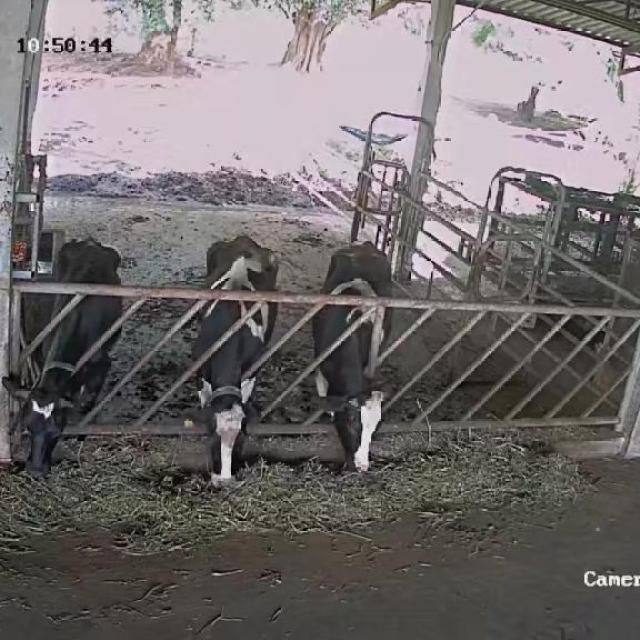feeding: (18, 227, 130, 476), (189, 234, 277, 494), (316, 237, 392, 482)
